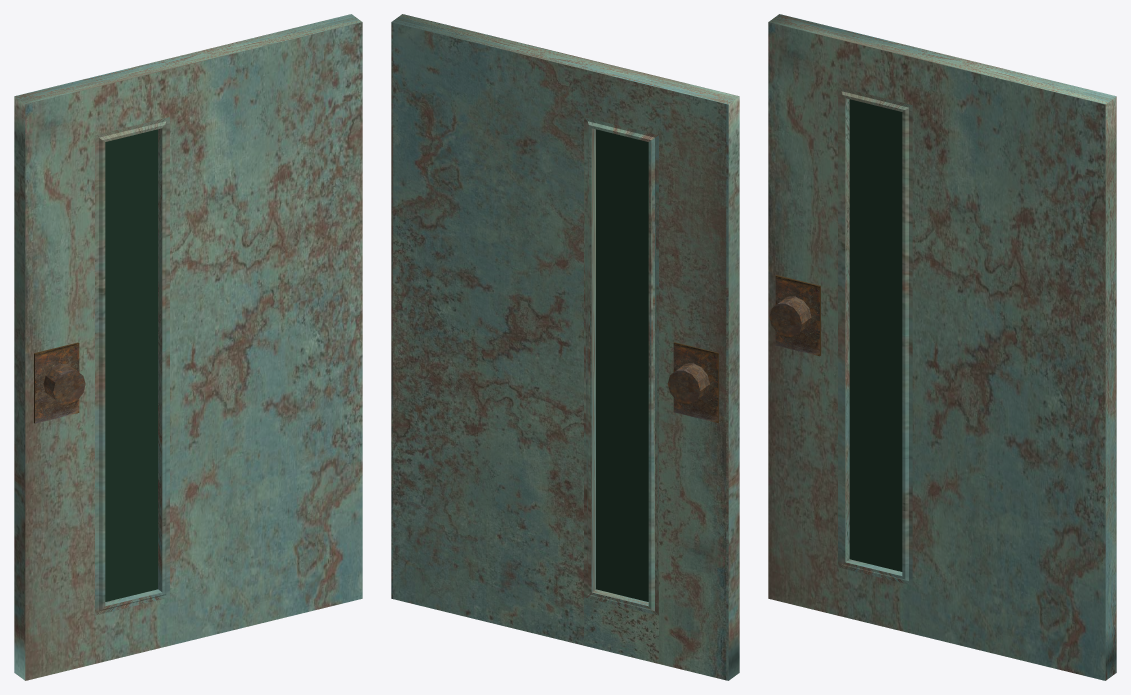
Rendered from doorsnew.fbx.
3 renders of one model, left to right at view 1: azimuth 30°, elevation 25°; view 2: azimuth 150°, elevation 25°; view 3: azimuth 330°, elevation 25°, orthographic.
Visible parts, largest first — view 1: DOORSCLOSE.001; view 2: DOORSCLOSE.001; view 3: DOORSCLOSE.001.
Boxes of the visible parts, x1=… form: DOORSCLOSE.001: x1=14, y1=14, x2=362, y2=680; DOORSCLOSE.001: x1=391, y1=14, x2=739, y2=680; DOORSCLOSE.001: x1=768, y1=14, x2=1116, y2=680.
Bounding box in the file's own units: 497 × 811 × 95.71.
Materials: 3 (2 with a texture image).
